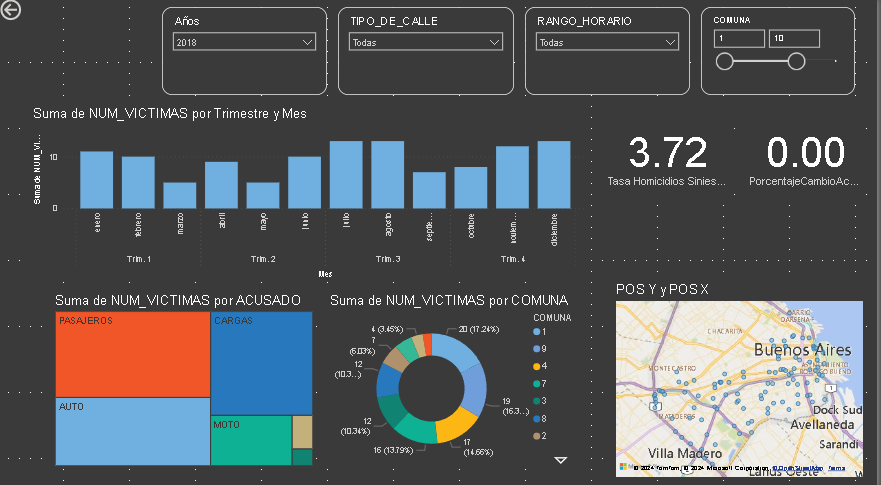

The page's visual inventory and layout, read from the dashboard file:
{"tool":"powerbi","page":{"name":"Tasa Homicidios Siniestros Viales","canvas":[1280,720],"ordinal":0},"visuals":[{"type":"card","fields":{"Values":["dataset_hechos_final.Tasa Homicidios Siniestros Viales"]},"box":[880,160,192,144],"z":0},{"type":"map","fields":{"X":["dataset_hechos_final.POS X"],"Y":["dataset_hechos_final.POS Y"]},"box":[896,320,368,384],"z":1000},{"type":"actionButton","box":[0,0,100,40],"z":1002},{"type":"slicer","fields":{"Values":["dataset_hechos_final.COMUNA"]},"box":[1024,16,224,128],"z":1003},{"type":"slicer","fields":{"Values":["dataset_hechos_final.RANGO_HORARIO"]},"box":[768,16,240,128],"z":1004},{"type":"clusteredColumnChart","fields":{"Category":["dataset_hechos_final.FECHA.Variación.Jerarquía de fechas.Trimestre","dataset_hechos_final.FECHA.Variación.Jerarquía de fechas.Mes"],"Y":["Sum(dataset_hechos_final.NUM_VICTIMAS)"]},"box":[48,160,816,256],"z":1005},{"type":"slicer","fields":{"Values":["dataset_hechos_final.TIPO_DE_CALLE"]},"box":[496,16,256,128],"z":1006},{"type":"donutChart","fields":{"Y":["Sum(dataset_hechos_final.NUM_VICTIMAS)"],"Category":["dataset_hechos_final.COMUNA"]},"box":[480,432,384,256],"z":1007},{"type":"treemap","fields":{"Group":["dataset_hechos_final.ACUSADO"],"Values":["Sum(dataset_hechos_final.NUM_VICTIMAS)"]},"box":[80,432,384,256],"z":1008},{"type":"slicer","fields":{"Values":["Años.Años"]},"box":[240,16,240,128],"z":1009},{"type":"card","fields":{"Values":["dataset_victimas_final.PorcentajeCambioAccidentesMortalesMoto"]},"box":[1088,160,176,144],"z":1010}]}

Visuals, with their boxes in screenshot pixels (x1, y1, x2, y2), scaled from the page's 1280x720 canvas onto the 881x485 screenshot:
card - dataset_hechos_final.Tasa Homicidios Siniestros Viales: box(606, 108, 738, 205)
map - dataset_hechos_final.POS X x dataset_hechos_final.POS Y: box(617, 216, 870, 474)
actionButton: box(0, 0, 69, 27)
slicer - dataset_hechos_final.COMUNA: box(705, 11, 859, 97)
slicer - dataset_hechos_final.RANGO_HORARIO: box(529, 11, 694, 97)
clusteredColumnChart - dataset_hechos_final.FECHA.Variación.Jerarquía de fechas.Trimestre x dataset_hechos_final.FECHA.Variación.Jerarquía de fechas.Mes: box(33, 108, 595, 280)
slicer - dataset_hechos_final.TIPO_DE_CALLE: box(341, 11, 518, 97)
donutChart - Sum(dataset_hechos_final.NUM_VICTIMAS) x dataset_hechos_final.COMUNA: box(330, 291, 595, 463)
treemap - dataset_hechos_final.ACUSADO x Sum(dataset_hechos_final.NUM_VICTIMAS): box(55, 291, 319, 463)
slicer - Años.Años: box(165, 11, 330, 97)
card - dataset_victimas_final.PorcentajeCambioAccidentesMortalesMoto: box(749, 108, 870, 205)
